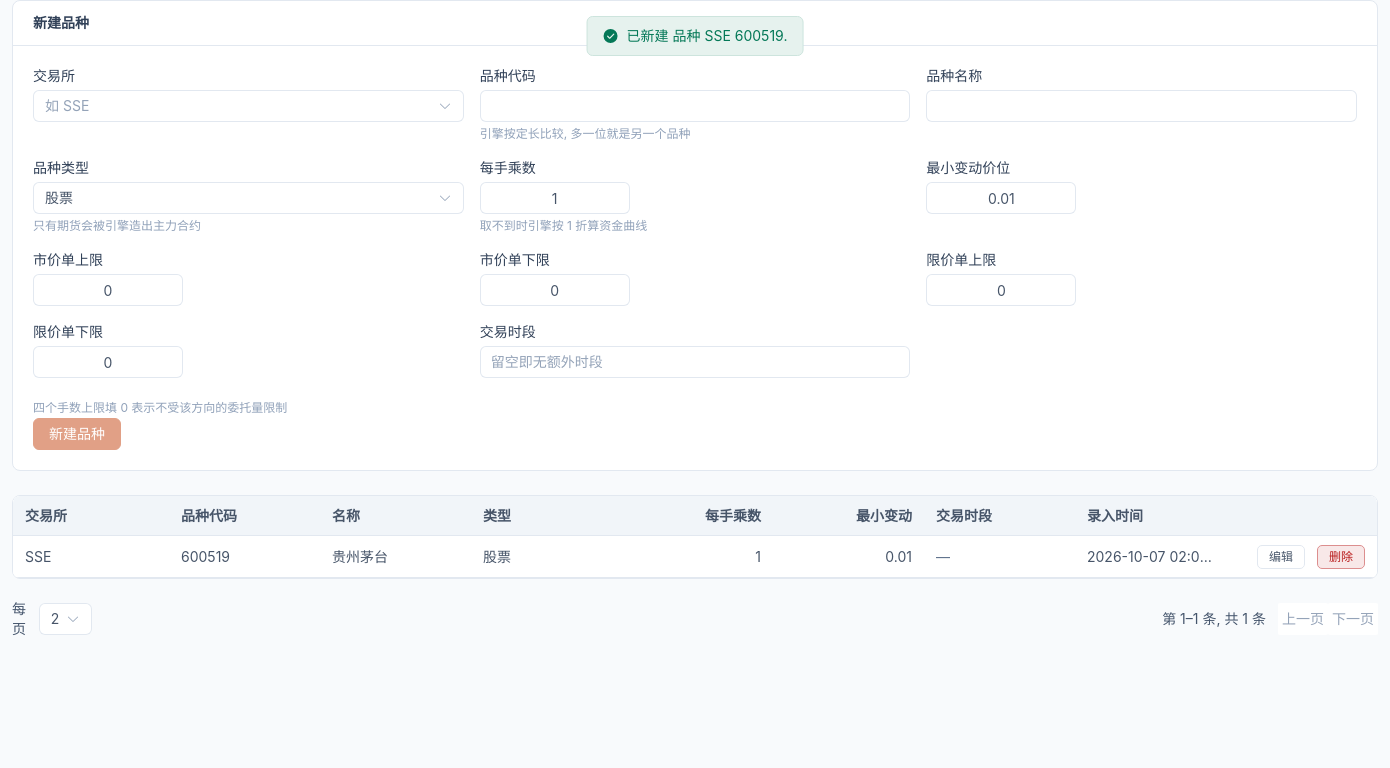
Test: ReferenceProductPanel › 删除: 先问一句, 确认后才发请求, 页面跟着重取
Click the button "删除" at (1341, 557), box [1317,545,1365,569]
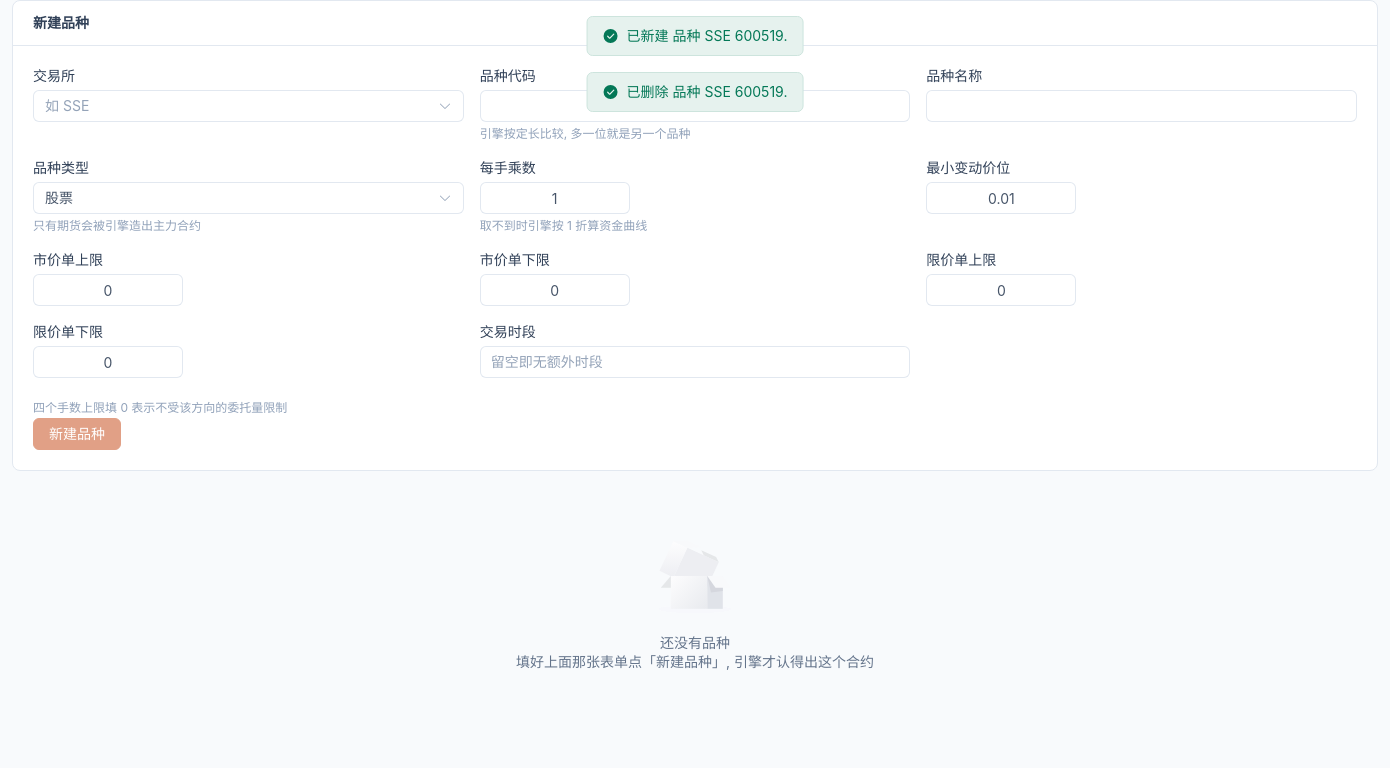
Result: the text "还没有品种" is shown at [660,634,730,651]
